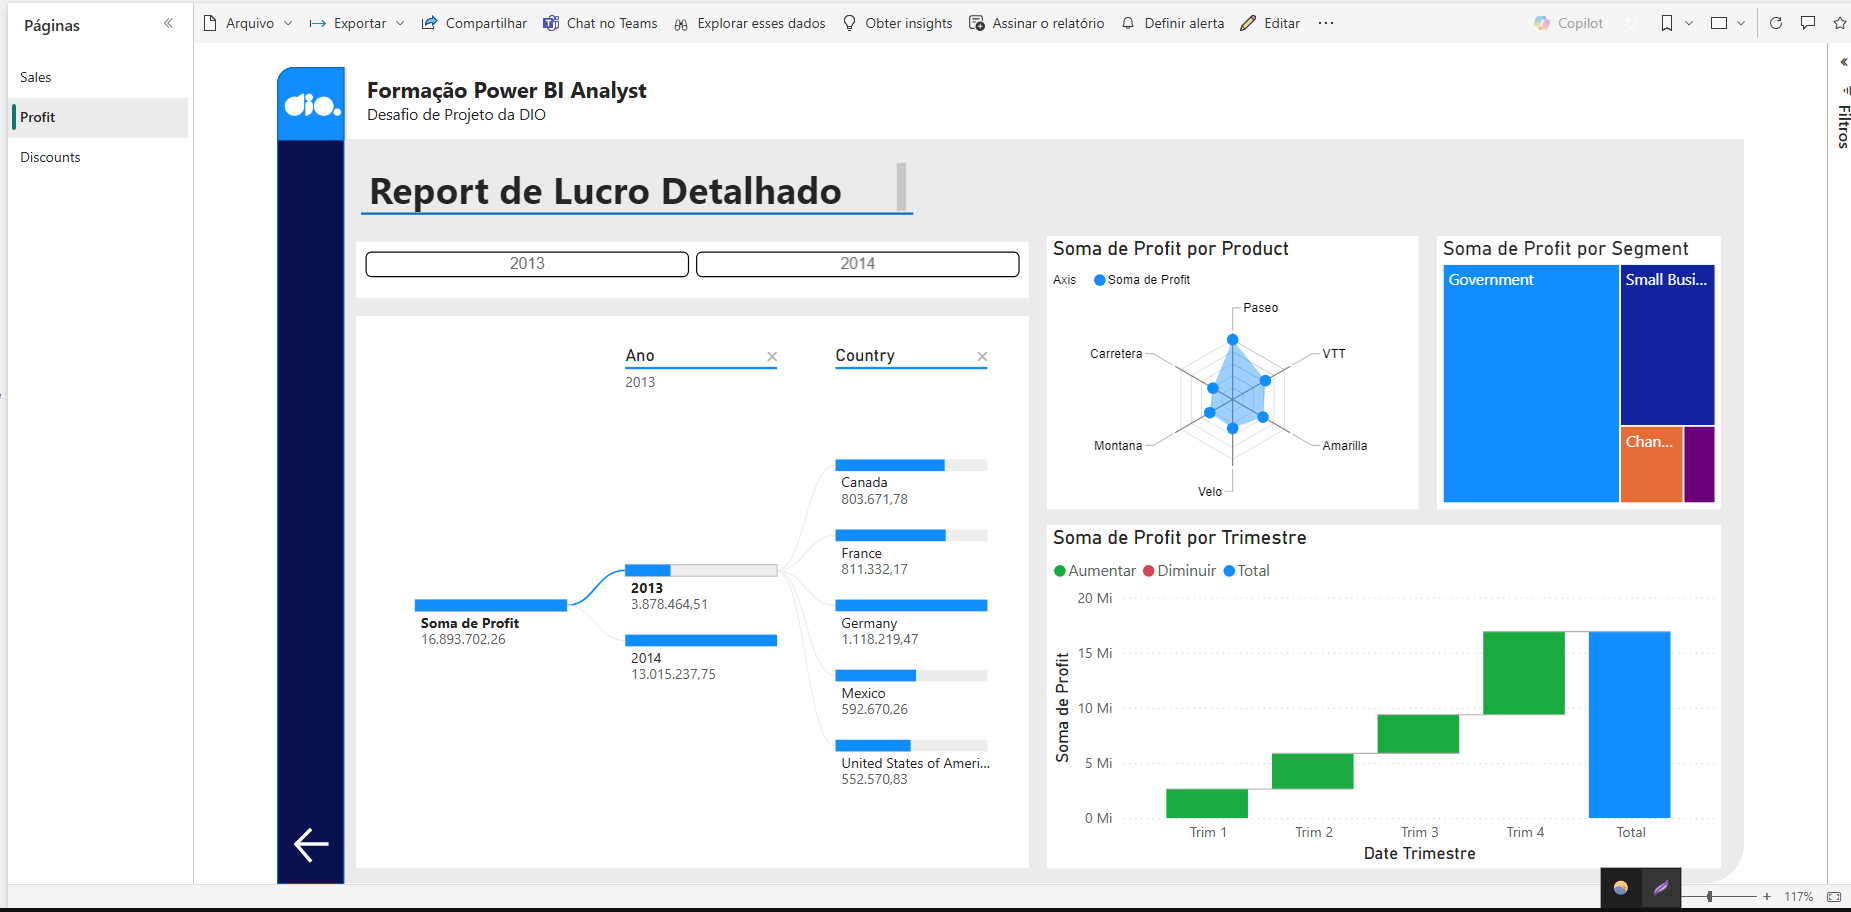

The page's visual inventory and layout, read from the dashboard file:
{"tool":"powerbi","page":{"name":"Profit","canvas":[1280,720],"ordinal":1},"visuals":[{"type":"shape","box":[42.6,20.7,1225.3,699.3],"z":0},{"type":"shape","box":[83.9,127.8,473,37.1],"z":0,"group":"g1"},{"type":"textbox","box":[85.3,97.6,470.2,52.2],"z":1000,"group":"g1"},{"type":"shape","box":[12.4,20.2,57.7,699.8],"z":1000},{"type":"shape","box":[12.4,20.6,57.7,63.2],"z":2000},{"type":"image","box":[13.7,33,57.7,39.9],"z":3000},{"type":"shape","title":"Fundo do Título","box":[71.5,20.6,1198.9,61.9],"z":4000},{"type":"textbox","title":"Título do report","box":[83.9,22,378.1,63.2],"z":5000},{"type":"shape","box":[79.7,233.7,576.1,473],"z":6000},{"type":"decompositionTreeVisual","fields":{"Analyze":["Sum(financials.Profit)"],"ExplainBy":["financials.Date.Variation.Hierarquia de datas.Ano","financials.Country"]},"box":[99.8,242.2,536.3,456.5],"z":7000},{"type":"waterfallChart","fields":{"Category":["financials.Date.Variation.Hierarquia de datas.Trimestre"],"Y":["Sum(financials.Profit)"]},"box":[670.9,412.5,577.4,294.2],"z":8000},{"type":"ChicletSlicer1448559807354","fields":{"Category":["financials.Date.Variation.Hierarquia de datas.Ano"]},"box":[79.7,170.5,576.1,48.1],"z":9000},{"type":"RadarChart1446119667547","fields":{"Category":["financials.Product"],"Y":["Sum(financials.Profit)"]},"box":[670.9,165,317.6,233.7],"z":10000},{"type":"treemap","fields":{"Values":["Sum(financials.Profit)"],"Group":["financials.Segment"]},"box":[1005,165,243.4,233.7],"z":11000},{"type":"actionButton","box":[22,666.8,48.1,39.9],"z":12000},{"type":"group","id":"g1","title":"Sales report","box":[83.9,97.6,473,67.4],"z":13000}]}

Visuals, with their boxes on the page's 1280x720 design canvas (x1, y1, x2, y2). These are canvas units, not pixel positions in the 1851x912 screenshot, which may show the page scaled, cropped or inside an application window:
shape: bbox=[43, 21, 1268, 720]
shape: bbox=[84, 128, 557, 165]
textbox: bbox=[85, 98, 556, 150]
shape: bbox=[12, 20, 70, 720]
shape: bbox=[12, 21, 70, 84]
image: bbox=[14, 33, 71, 73]
"Fundo do Título" shape: bbox=[72, 21, 1270, 82]
"Título do report" textbox: bbox=[84, 22, 462, 85]
shape: bbox=[80, 234, 656, 707]
decompositionTreeVisual - Sum(financials.Profit) x financials.Date.Variation.Hierarquia de datas.Ano: bbox=[100, 242, 636, 699]
waterfallChart - financials.Date.Variation.Hierarquia de datas.Trimestre x Sum(financials.Profit): bbox=[671, 412, 1248, 707]
ChicletSlicer1448559807354 - financials.Date.Variation.Hierarquia de datas.Ano: bbox=[80, 170, 656, 219]
RadarChart1446119667547 - financials.Product x Sum(financials.Profit): bbox=[671, 165, 988, 399]
treemap - Sum(financials.Profit) x financials.Segment: bbox=[1005, 165, 1248, 399]
actionButton: bbox=[22, 667, 70, 707]
"Sales report" group: bbox=[84, 98, 557, 165]
